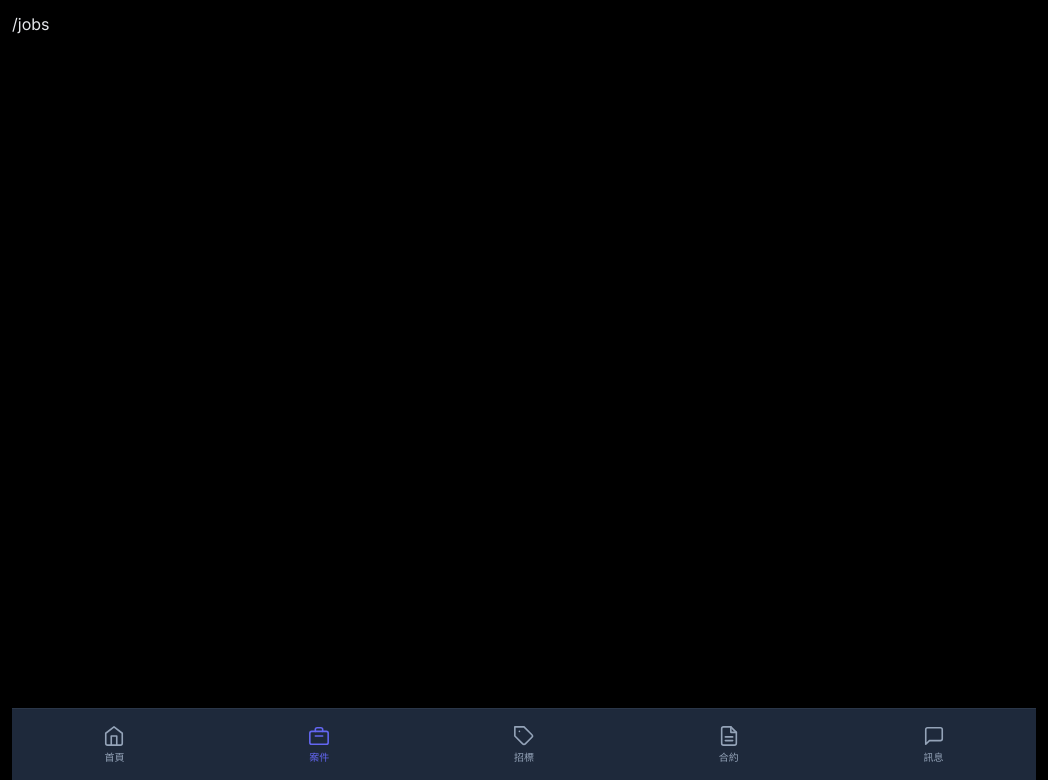
Test case: CoverOnesMobileBottomNav › 訊息 tab navigates to /messages (placeholder, chat not unparked)
This screenshot has width=1048, height=780.
Click the button "訊息".
click(934, 744)  # box [831,709,1036,779]
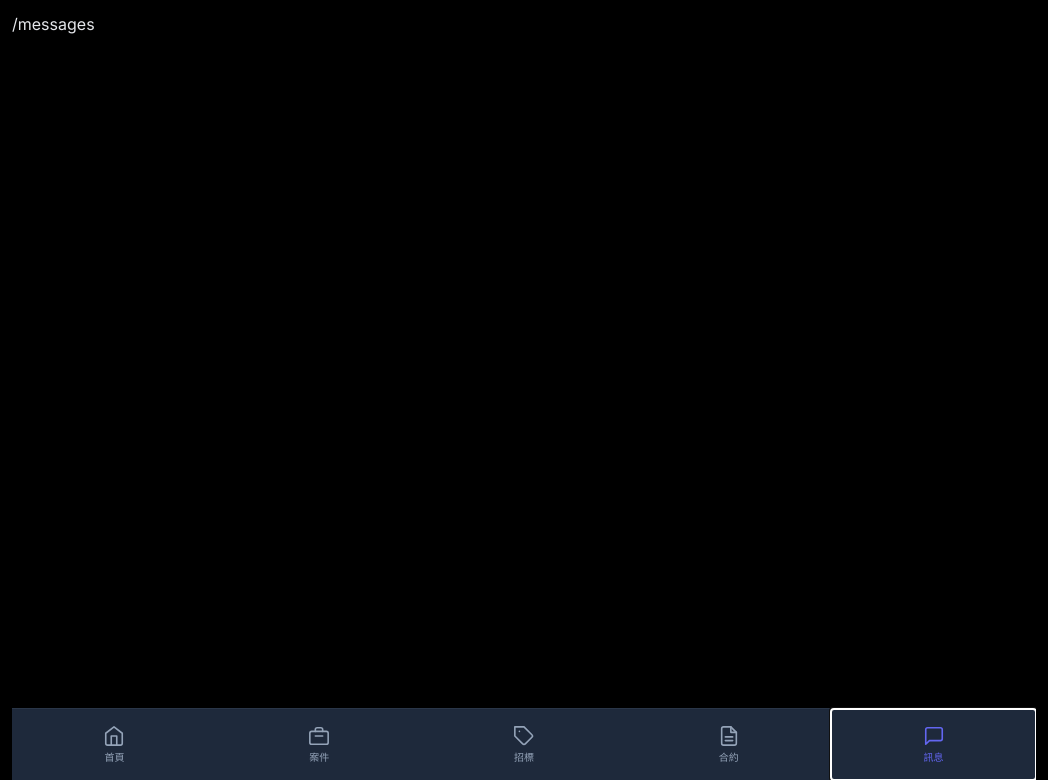
Check: the text with test id "path" reads "/messages", box [12,14,95,34]
